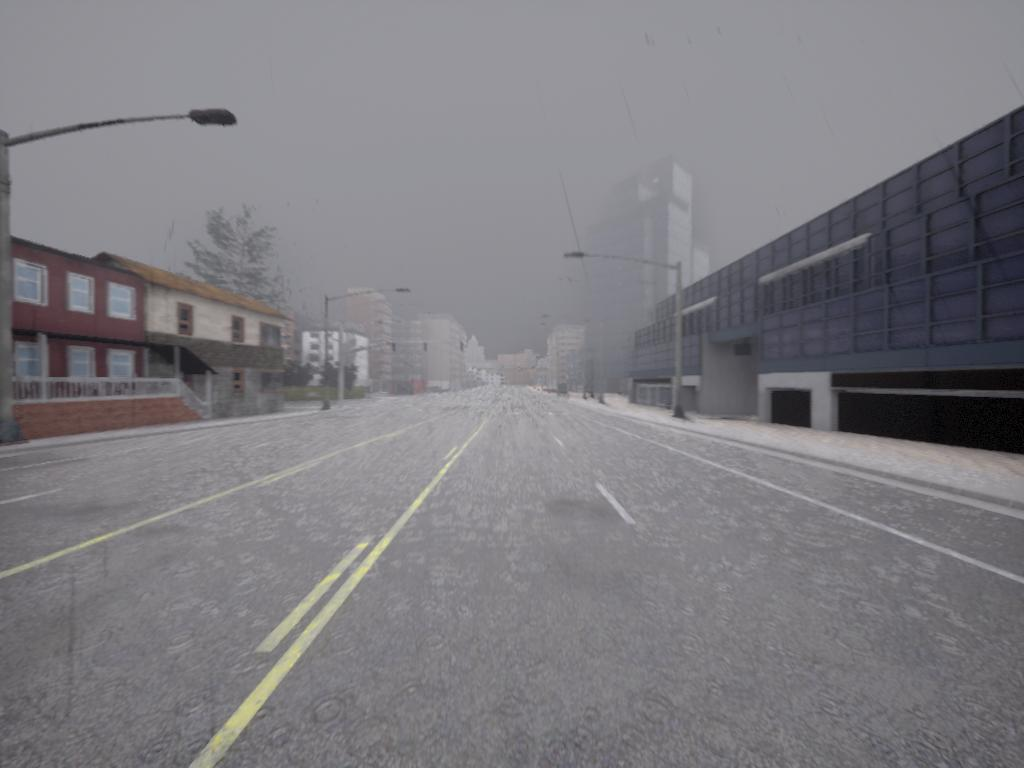traffic_light: (424, 343, 429, 354), (392, 343, 397, 353), (461, 343, 465, 354)
